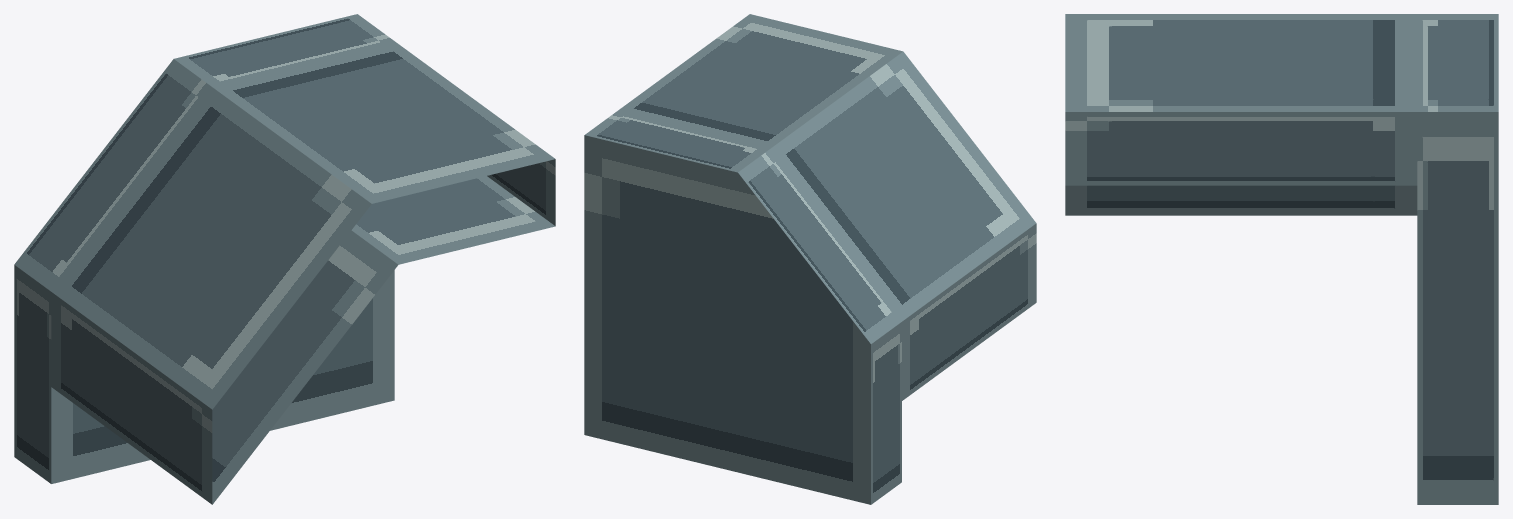
File: casing_d5_front_x-1_y2.obj
The picture shows the model from 3 angles, left to right: view 1: azimuth 30°, elevation 25°; view 2: azimuth 150°, elevation 25°; view 3: azimuth 270°, elevation 25°; orthographic projection. The views are drawn at different scales.
Parts seen in each view (by area): view 1: d5_front_x-1_y2; view 2: d5_front_x-1_y2; view 3: d5_front_x-1_y2.
Part boxes in pixels (box(x1,y1,x2,y2)): d5_front_x-1_y2: box(14, 14, 555, 504); d5_front_x-1_y2: box(584, 14, 1036, 504); d5_front_x-1_y2: box(1065, 14, 1498, 504).
Bounding box in the file's own units: 1 × 1 × 1.
